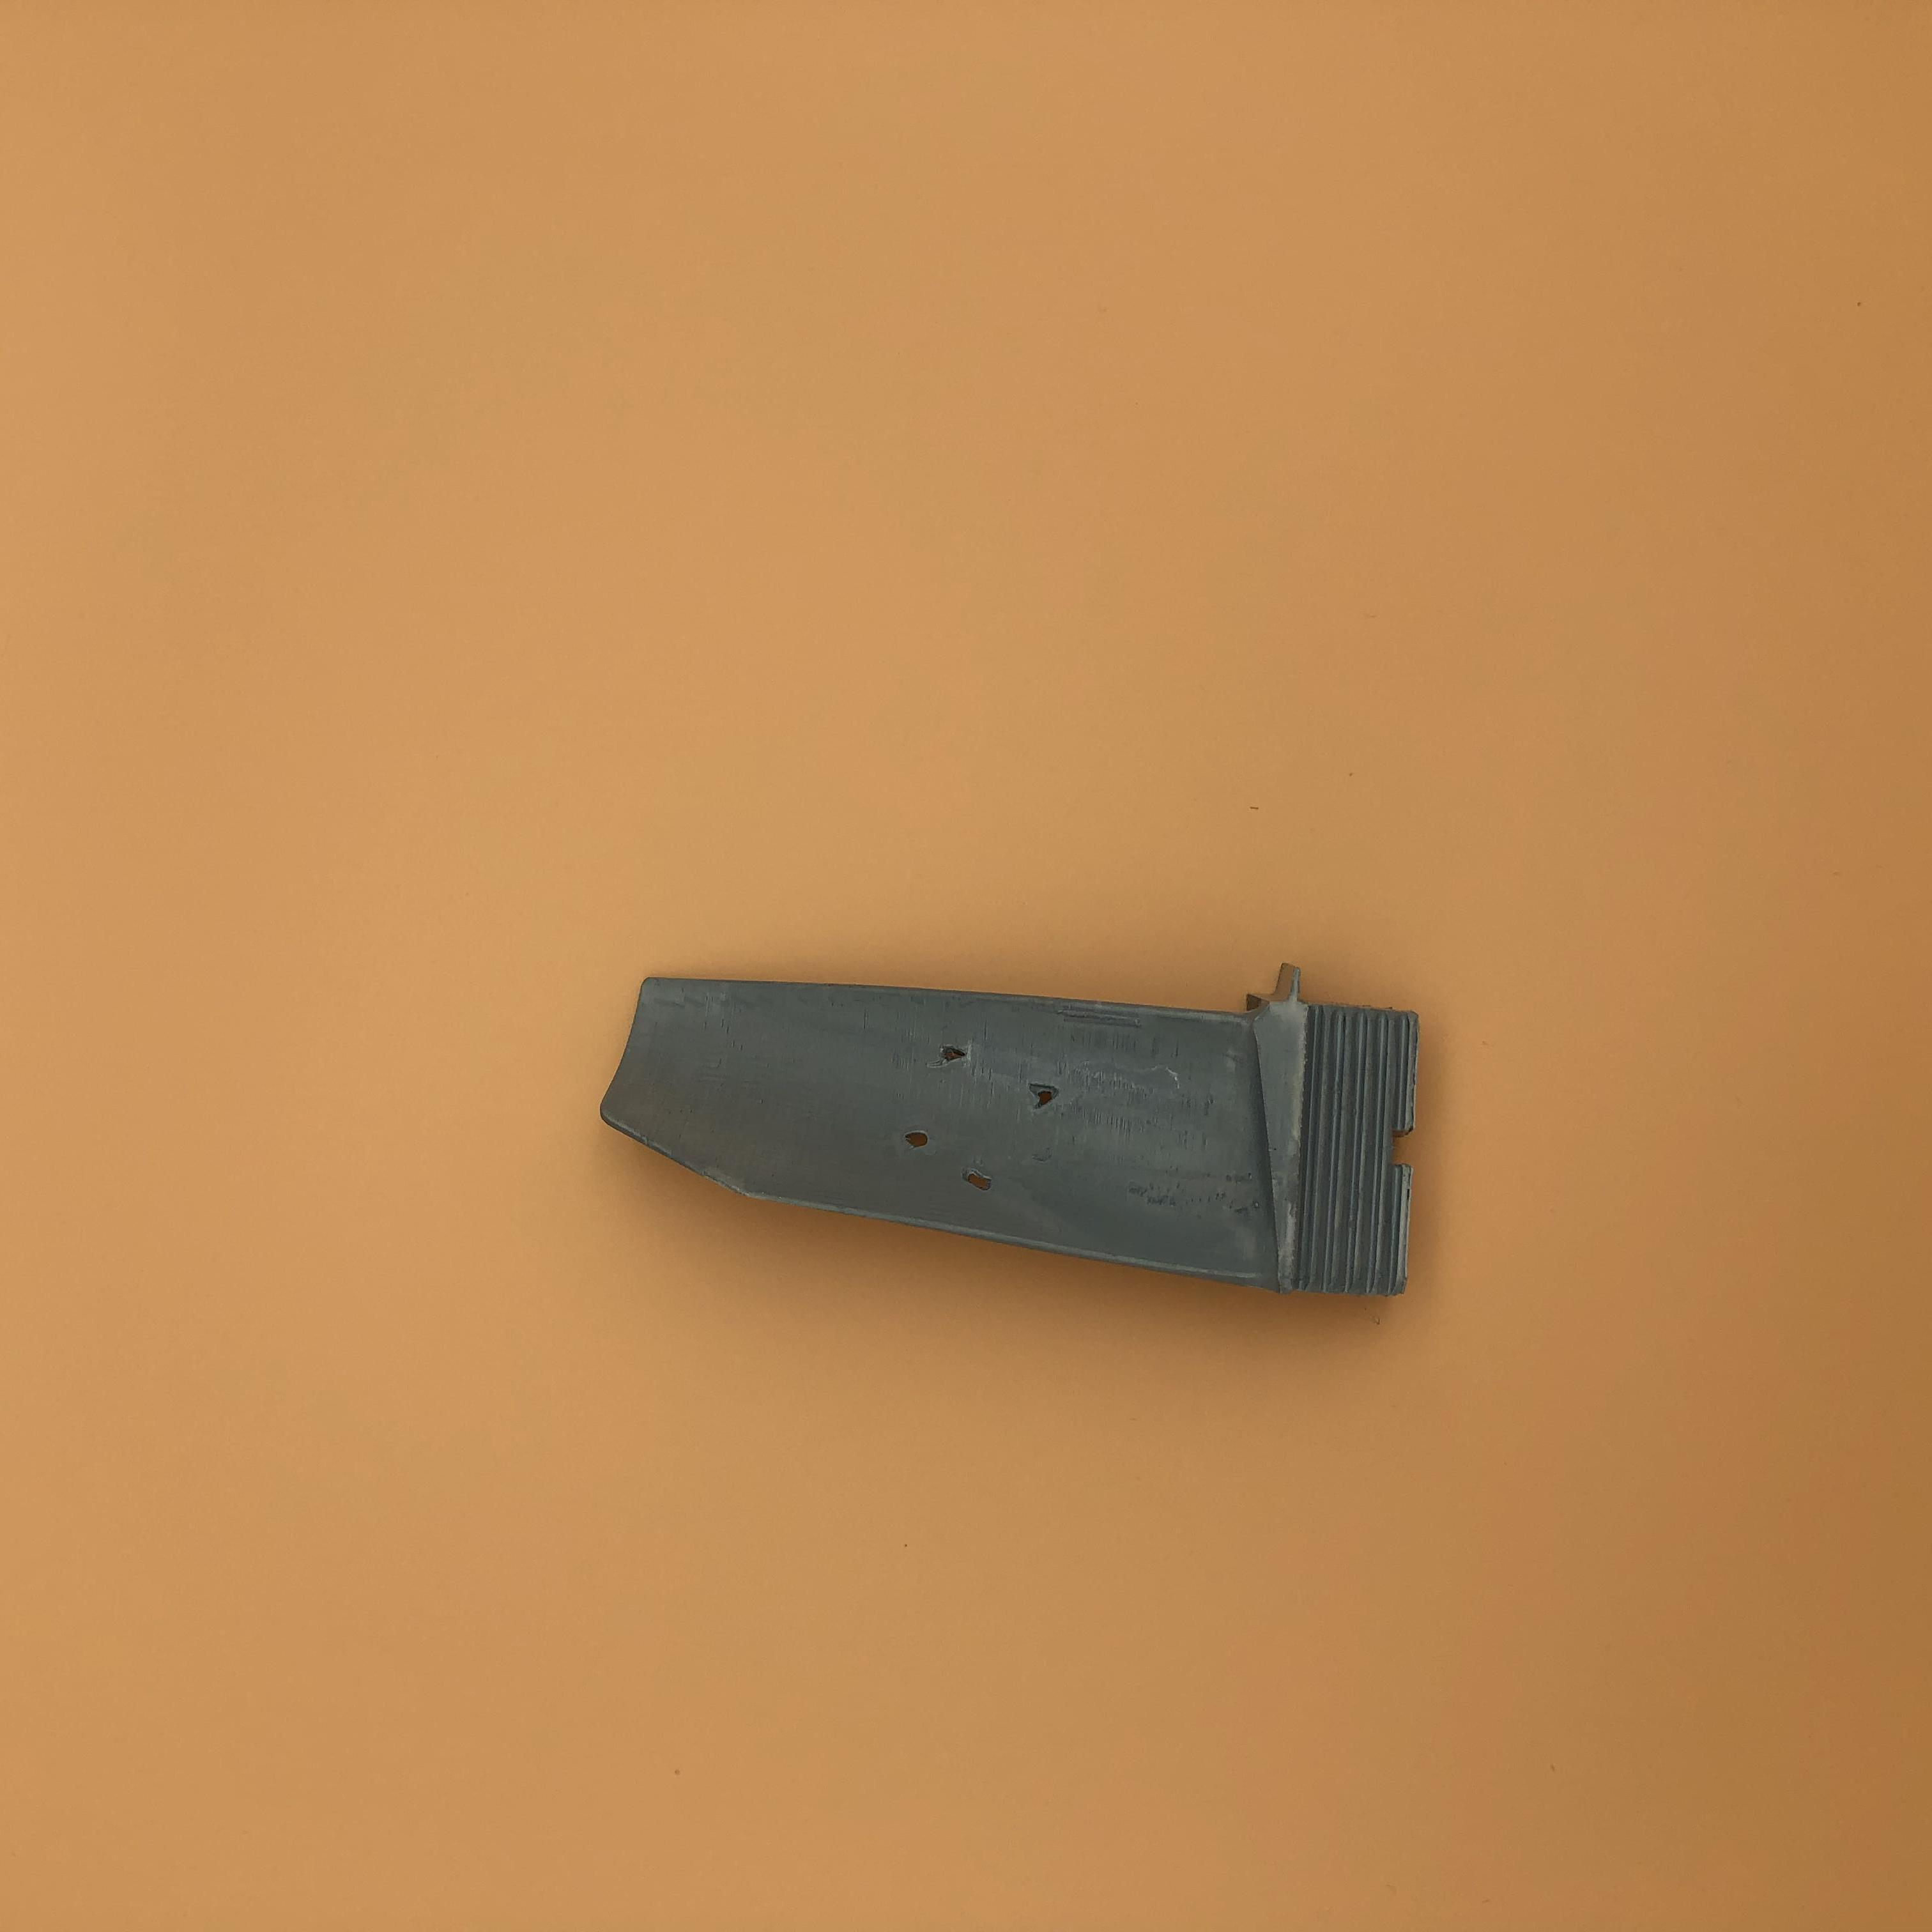breakdown: (909, 1051, 1058, 1201)
